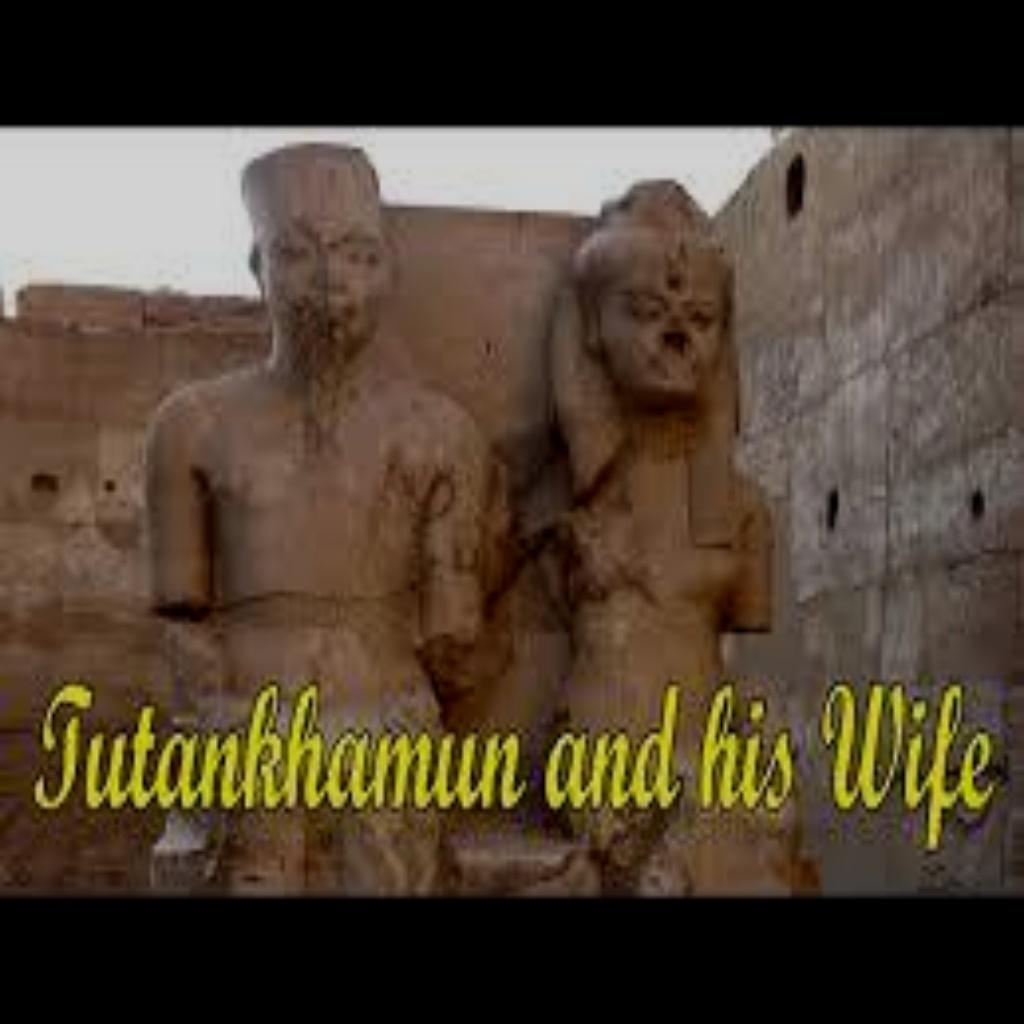Statue of Ankhesenamun: (520, 169, 782, 892)
Statue of Tutankhamun: (134, 137, 490, 887)
